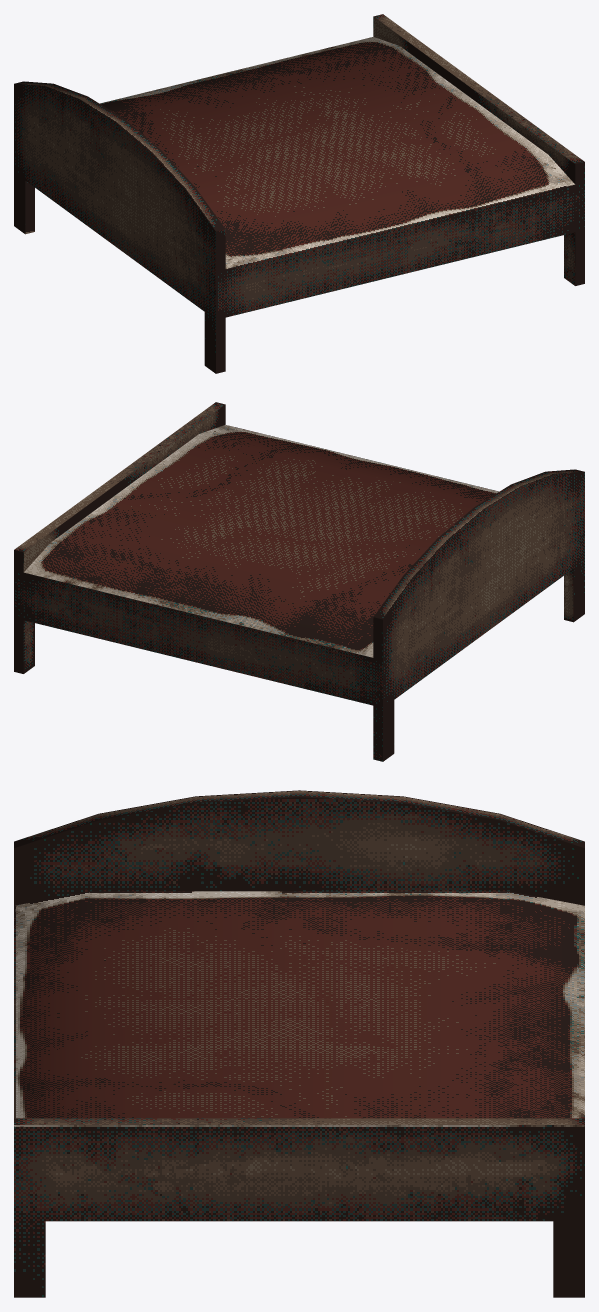
The model's file is double-bed.glb.
3 views of the same model, one above another, from view 1: azimuth 30°, elevation 25°; view 2: azimuth 150°, elevation 25°; view 3: azimuth 270°, elevation 25° (orthographic). The views are drawn at different scales.
Parts seen in each view (by area): view 1: double-bed-col; view 2: double-bed-col; view 3: double-bed-col.
Boxes of the visible parts, x1,y1,x2,y2 form: double-bed-col: (14, 14, 584, 373); double-bed-col: (14, 402, 584, 761); double-bed-col: (14, 790, 584, 1297).
Bounding box in the file's own units: 1.9 × 0.878 × 1.8.
1 material, 1 textured.
